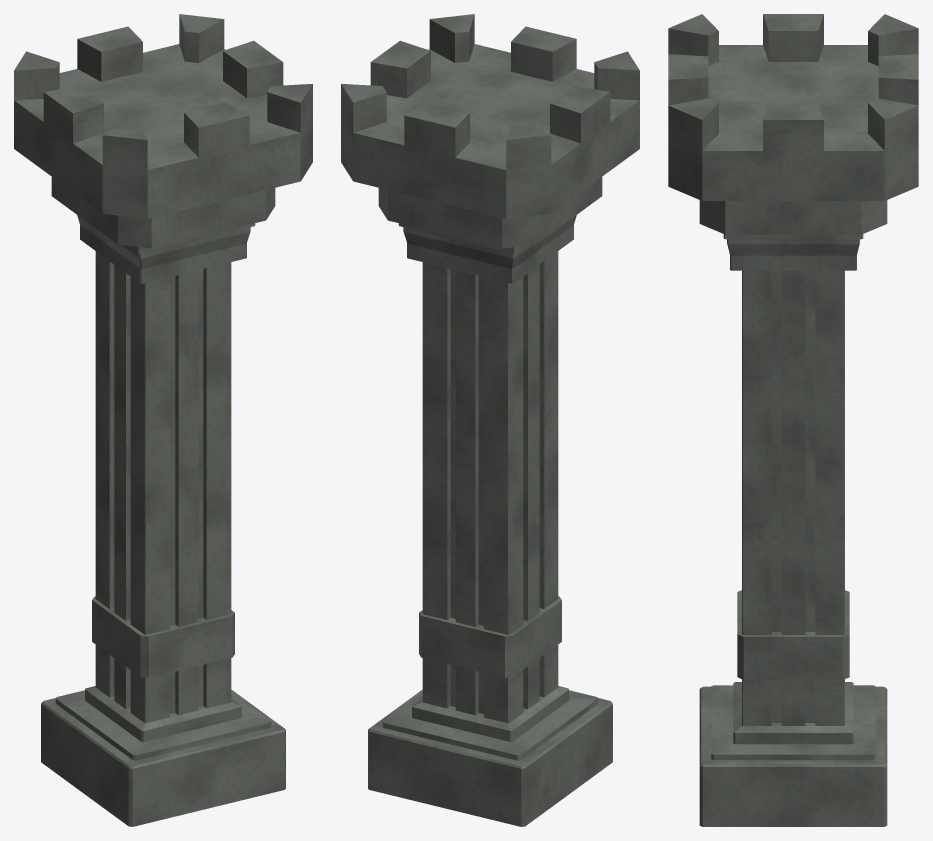
Rendered from FortressPillar.fbx.
The picture shows the model from 3 angles, left to right: view 1: azimuth 30°, elevation 25°; view 2: azimuth 150°, elevation 25°; view 3: azimuth 270°, elevation 25°; orthographic projection. The views are drawn at different scales.
Parts seen in each view (by area): view 1: FortressPillar.001; view 2: FortressPillar.001; view 3: FortressPillar.001.
Boxes of the visible parts, box(x1,y1,x2,y2) form: FortressPillar.001: box(14, 14, 312, 826); FortressPillar.001: box(341, 14, 639, 826); FortressPillar.001: box(668, 14, 918, 826).
Size of the model in its own units: 11.5 by 36.48 by 11.5.
1 material, 1 textured.
